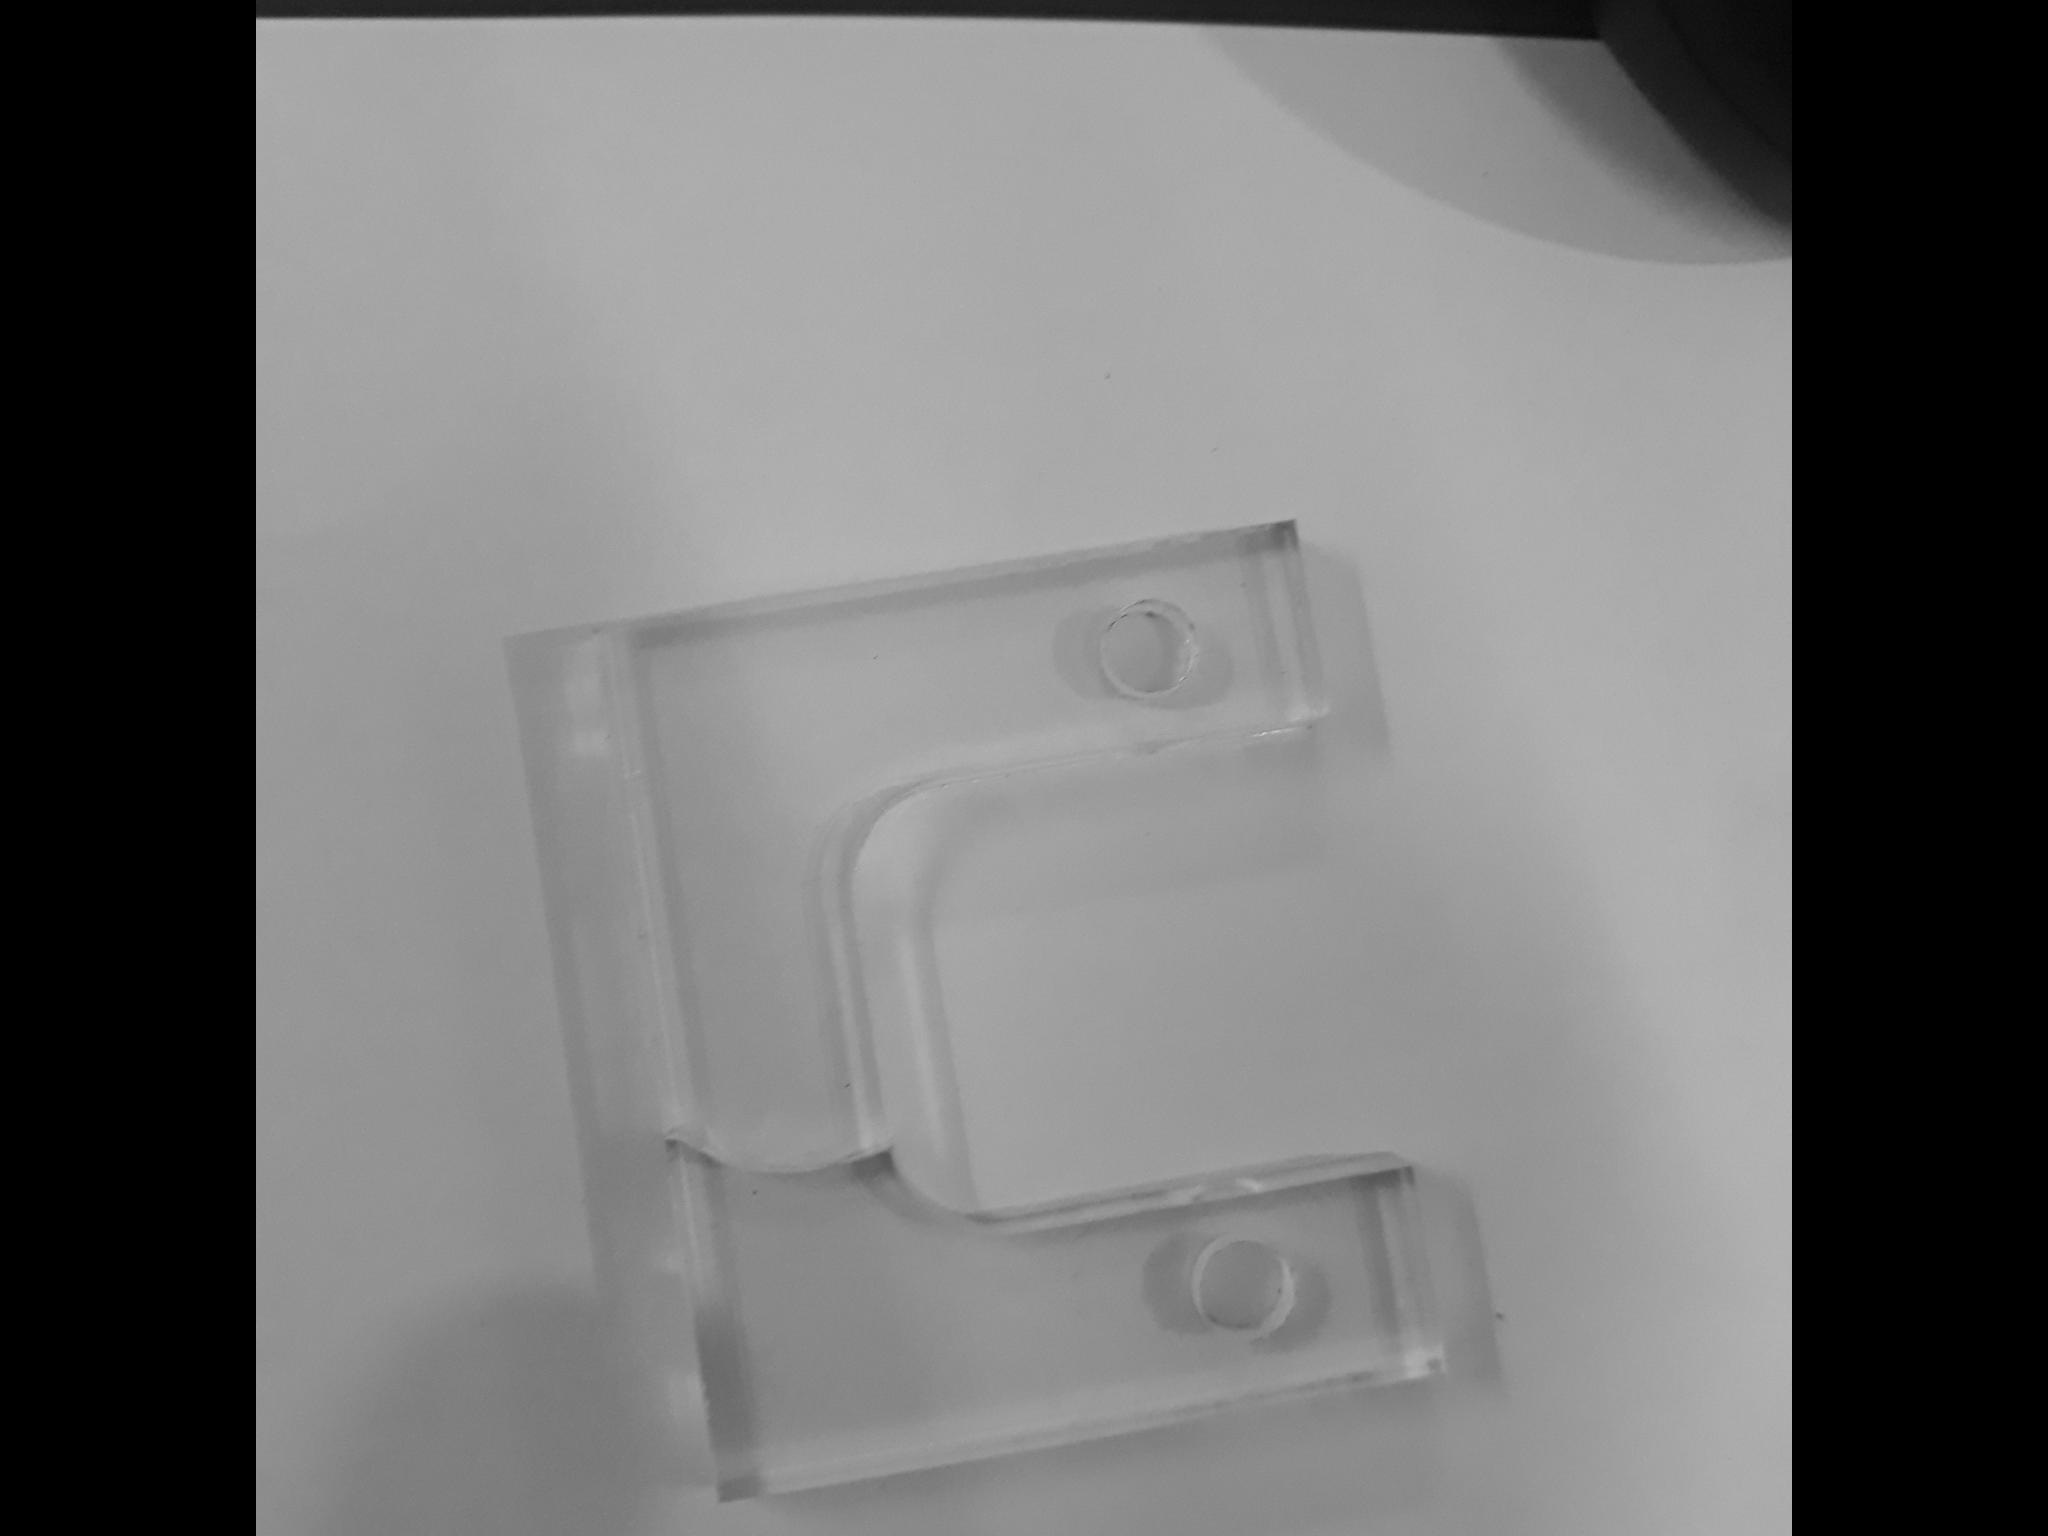Shape_45: (1029, 108, 1792, 931), (1250, 289, 1729, 705)
